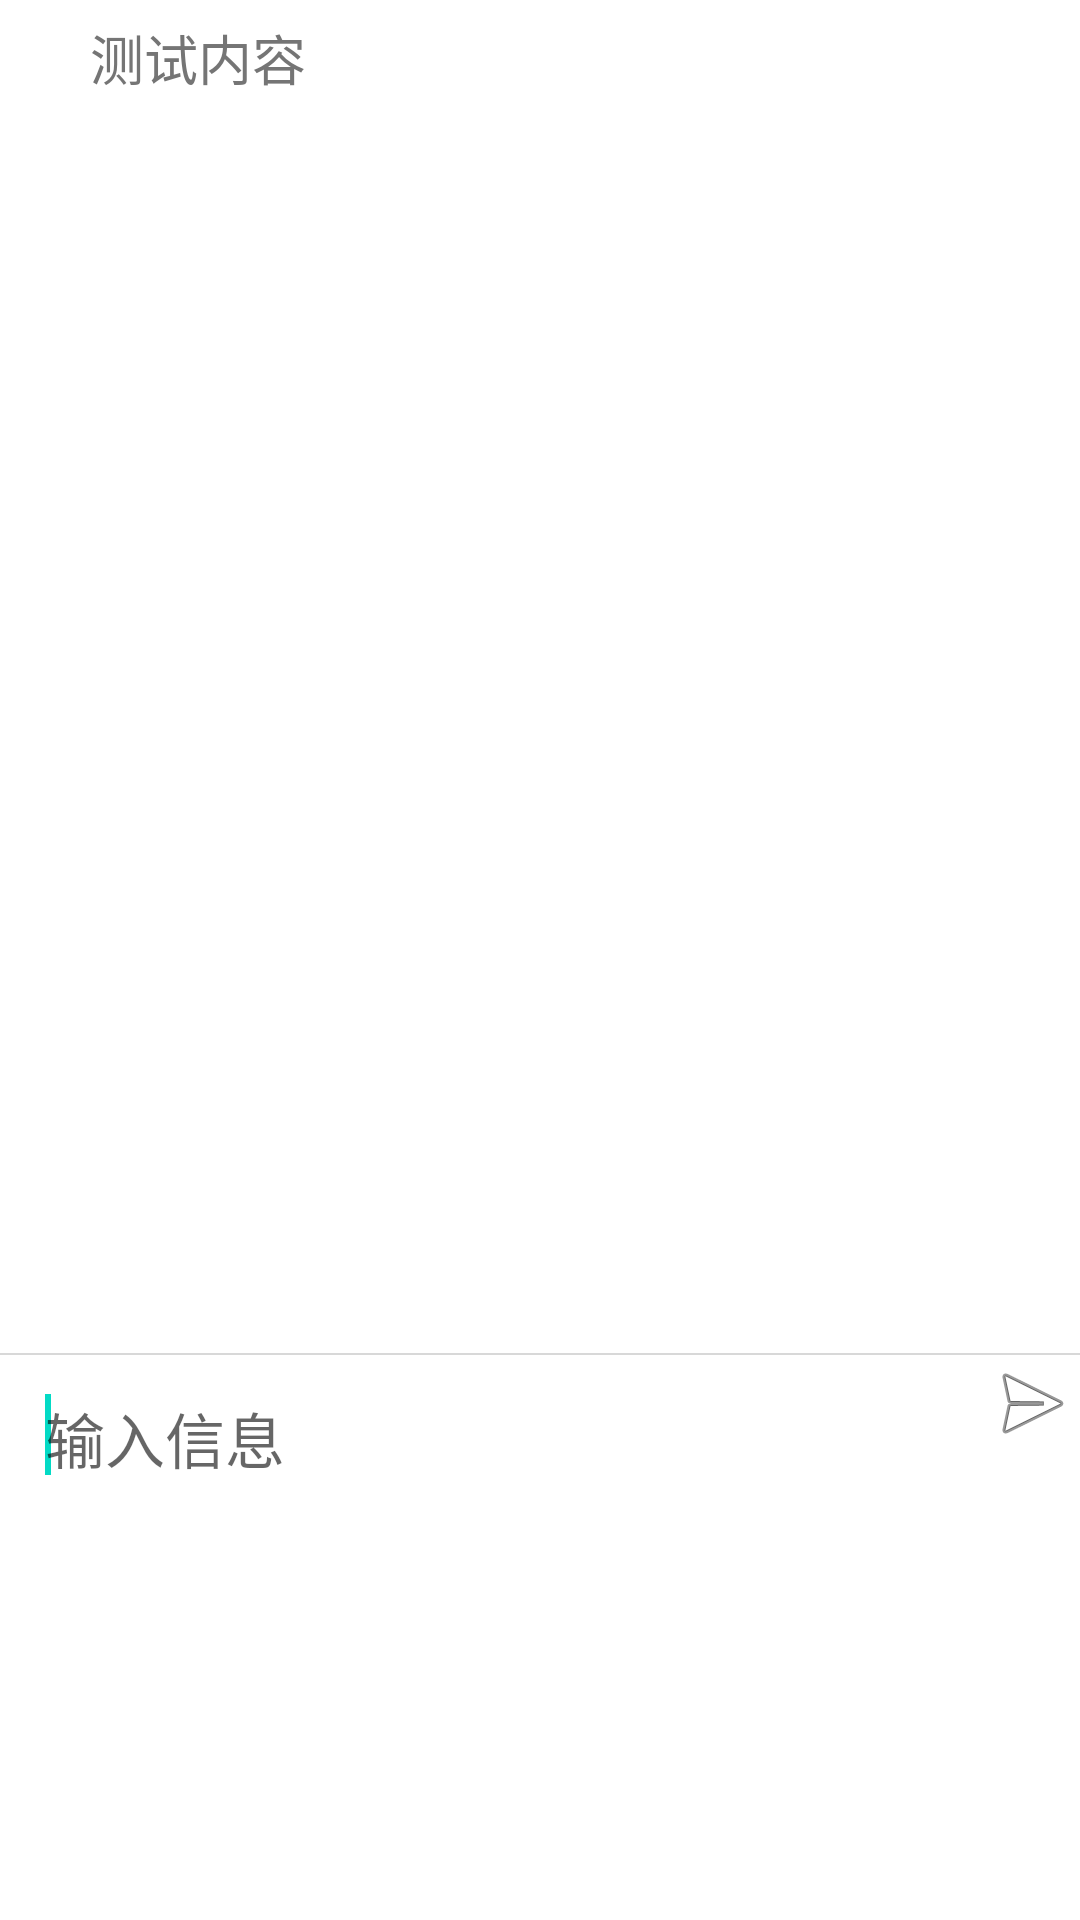

Locate icon controls on the screen. Image size 1080*1920, boxes as [left=x1, top=y1, right=x2, bottom=y2].
send: [left=1002, top=1373, right=1064, bottom=1434]
